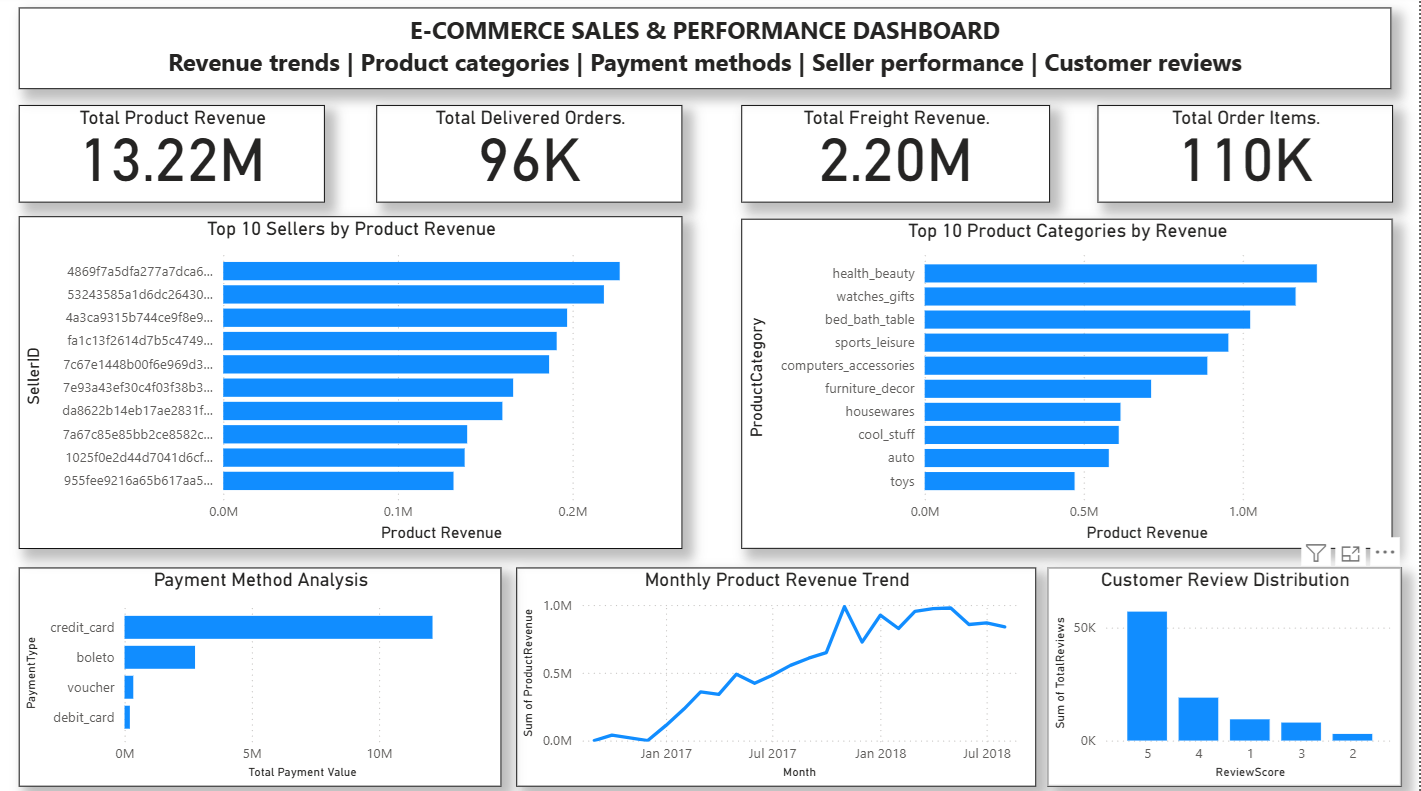

The page's visual inventory and layout, read from the dashboard file:
{"tool":"powerbi","page":{"name":"Executive Overview","canvas":[1280,720],"ordinal":0},"visuals":[{"type":"card","title":"Total Product Revenue","fields":{"Values":["Sum(reporting vw_monthly_revenue.ProductRevenue)"]},"box":[17.1,73.4,276.4,97.8],"z":0},{"type":"card","title":"Total Delivered Orders.","fields":{"Values":["Sum(reporting vw_monthly_revenue.TotalOrders)"]},"box":[338.7,73.4,276.4,97.8],"z":1000},{"type":"card","title":"Total Freight Revenue.","fields":{"Values":["Sum(reporting vw_monthly_revenue.FreightRevenue)"]},"box":[667.7,73.4,277.6,97.8],"z":2000},{"type":"card","title":"Total Order Items.","fields":{"Values":["Sum(reporting vw_monthly_revenue.TotalOrderItems)"]},"box":[988,73.4,266.6,97.8],"z":3000},{"type":"lineChart","title":"Monthly Product Revenue Trend","fields":{"Y":["Sum(reporting vw_monthly_revenue.ProductRevenue)"],"Category":["reporting vw_monthly_revenue.RevenueMonth"]},"box":[463.5,505,468.3,196.9],"z":4000},{"type":"clusteredBarChart","title":"Top 10 Product Categories by Revenue","fields":{"Y":["Sum(reporting vw_category_performance.ProductRevenue)"],"Category":["reporting vw_category_performance.ProductCategory"]},"box":[667.7,185.9,587,297.1],"z":5000},{"type":"clusteredBarChart","title":"Payment Method Analysis","fields":{"Category":["reporting vw_payment_performance.PaymentType"],"Y":["Sum(reporting vw_payment_performance.TotalPaymentValue)"]},"box":[17.1,505,435.3,196.9],"z":6000},{"type":"clusteredColumnChart","title":"Customer Review Distribution","fields":{"Category":["reporting vw_review_performance.ReviewScore"],"Y":["Sum(reporting vw_review_performance.TotalReviews)"]},"box":[945.2,516,319.2,185.9],"z":6001},{"type":"clusteredBarChart","title":"Top 10 Sellers by Product Revenue","fields":{"Category":["reporting vw_seller_performance.SellerID"],"Y":["Sum(reporting vw_seller_performance.ProductRevenue)"]},"box":[17.1,184.6,598,299.6],"z":6002},{"type":"textbox","box":[17.1,0,1237.5,63.6],"z":6003}]}

Visuals, with their boxes in screenshot pixels (x1, y1, x2, y2), scaled from the page's 1280x720 canvas onto the 1421x791 screenshot:
"Total Product Revenue" card: locate(19, 81, 326, 188)
"Total Delivered Orders." card: locate(376, 81, 683, 188)
"Total Freight Revenue." card: locate(741, 81, 1049, 188)
"Total Order Items." card: locate(1097, 81, 1393, 188)
"Monthly Product Revenue Trend" lineChart: locate(515, 555, 1034, 771)
"Top 10 Product Categories by Revenue" clusteredBarChart: locate(741, 204, 1393, 531)
"Payment Method Analysis" clusteredBarChart: locate(19, 555, 502, 771)
"Customer Review Distribution" clusteredColumnChart: locate(1049, 567, 1404, 771)
"Top 10 Sellers by Product Revenue" clusteredBarChart: locate(19, 203, 683, 532)
textbox: locate(19, 0, 1393, 70)
